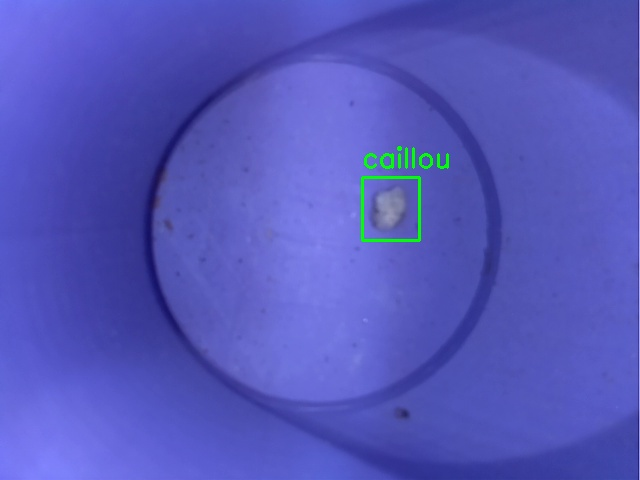caillou: (362, 177, 419, 240)
